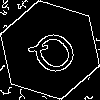Q: (25, 25, 89, 87)
